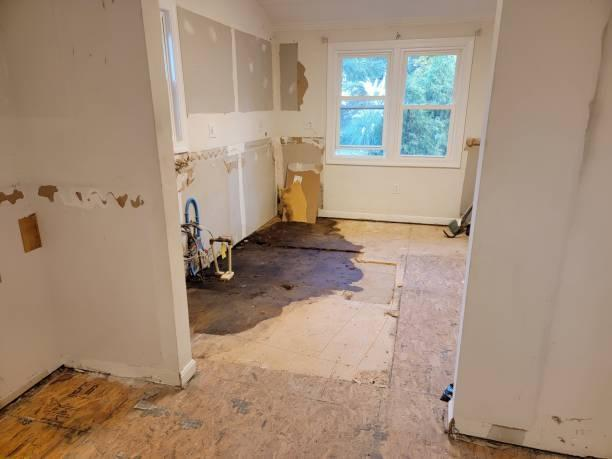water accumulation: (188, 214, 365, 339), (0, 362, 178, 459)
